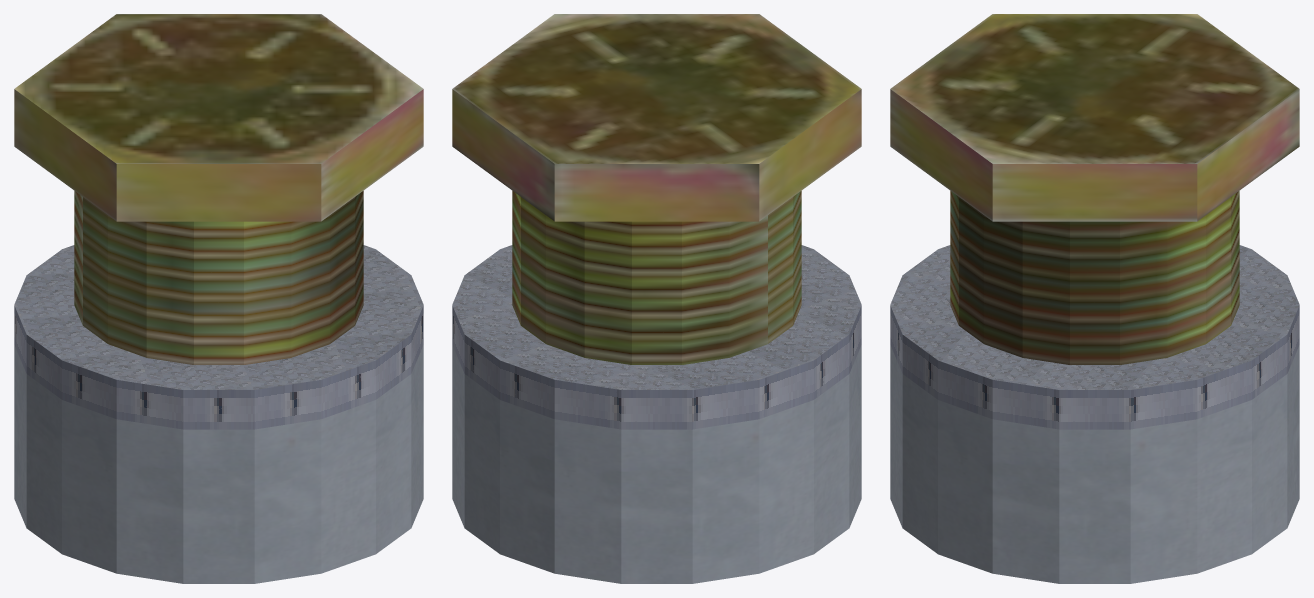
Rendered from screw_socket.dae.
The picture shows the model from 3 angles, left to right: view 1: azimuth 30°, elevation 25°; view 2: azimuth 150°, elevation 25°; view 3: azimuth 270°, elevation 25°; orthographic projection.
Visible parts, largest first — view 1: screw, screw_socket; view 2: screw, screw_socket; view 3: screw, screw_socket.
Boxes of the visible parts, left/top/right/bottom form: screw: left=14, top=14, right=423, bottom=364; screw_socket: left=14, top=245, right=423, bottom=583; screw: left=452, top=14, right=861, bottom=364; screw_socket: left=452, top=245, right=861, bottom=583; screw: left=890, top=14, right=1299, bottom=364; screw_socket: left=890, top=245, right=1299, bottom=583.
Bounding box in the file's own units: 13.2 × 13.4 × 14.8.
Materials: 4 (4 with a texture image).
